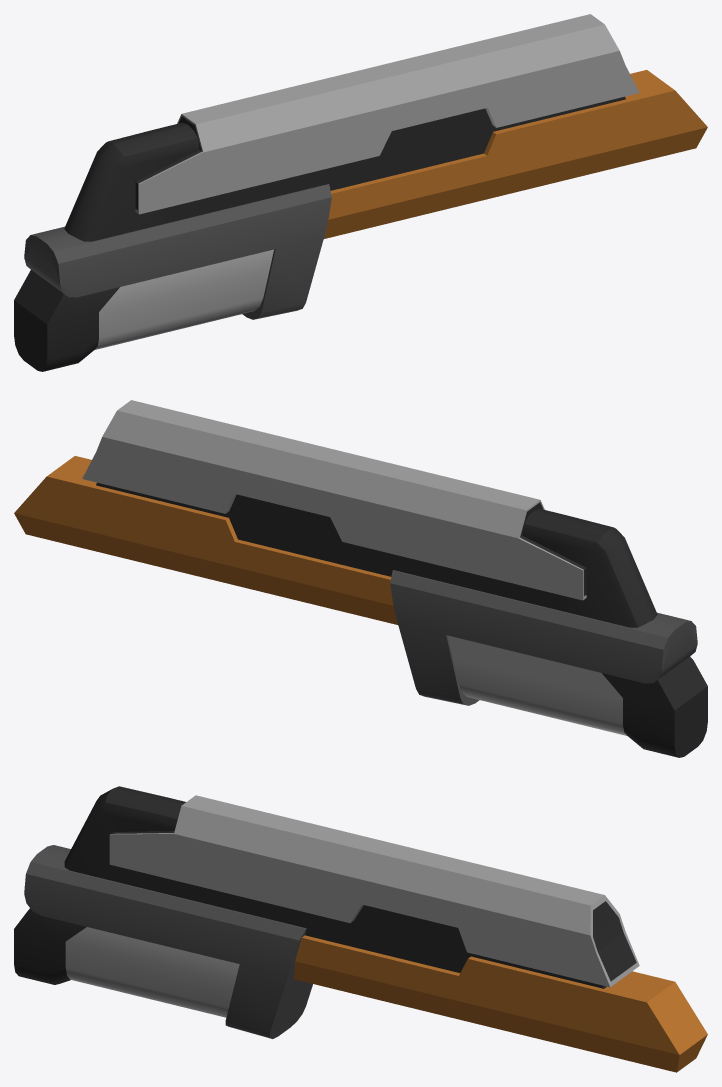
Rendered from Body_AR_5.glb.
3 renders of one model, top to bottom at view 1: azimuth 30°, elevation 25°; view 2: azimuth 150°, elevation 25°; view 3: azimuth 330°, elevation 25°, orthographic.
Parts seen in each view (by area): view 1: Body_AR_5; view 2: Body_AR_5; view 3: Body_AR_5.
Part boxes in pixels (left/top/right/bottom): Body_AR_5: left=14, top=14, right=707, bottom=371; Body_AR_5: left=14, top=400, right=707, bottom=757; Body_AR_5: left=14, top=786, right=707, bottom=1072.
Size of the model in its own units: 1.23 by 0.3695 by 0.1158.
